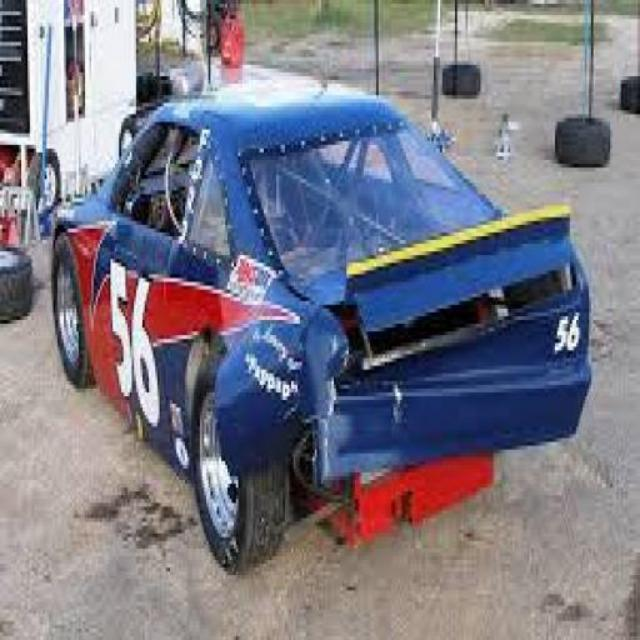dislocated part: (189, 297, 493, 538)
